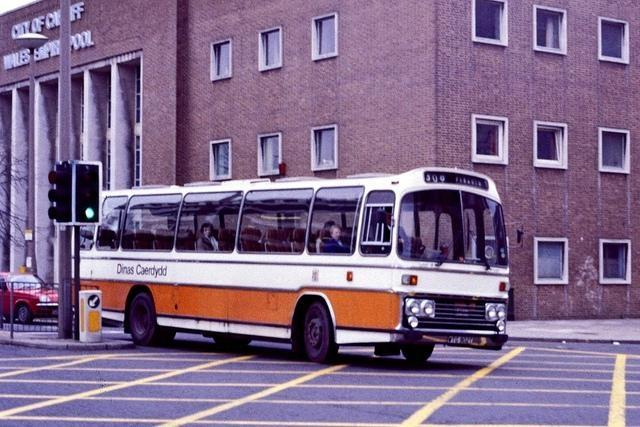bus: (79, 163, 512, 364)
car: (2, 272, 60, 325)
